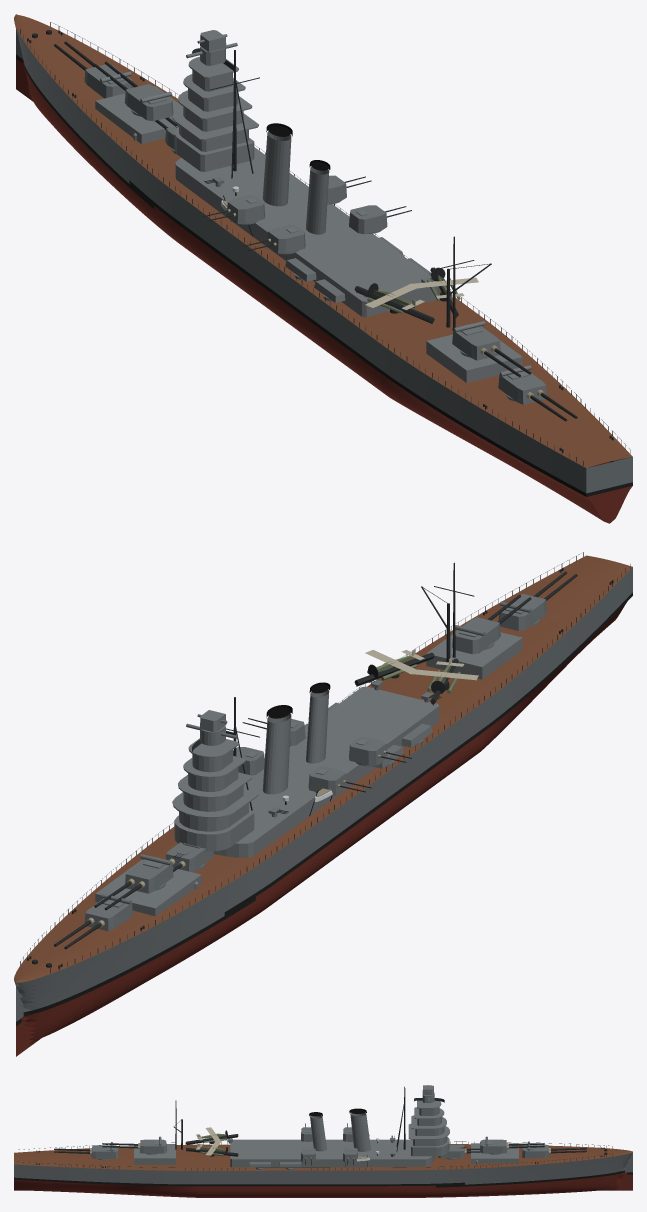
File: takao.glb
3 renders of one model, top to bottom at view 1: azimuth 30°, elevation 25°; view 2: azimuth 150°, elevation 25°; view 3: azimuth 270°, elevation 25°, orthographic. The views are drawn at different scales.
Visible parts, largest first — view 1: Hull, Turret2, Turret4, Turret5, Turret1, Mount2, Mount4, Mount3; view 2: Hull, Turret2, Turret4, Turret5, Turret1, Mount4, Mount2, Turret3; view 3: Hull, Turret4, Turret2, Turret5, Turret1, Turret3, Mount3, Mount1.
Part boxes in pixels (left/top/right/bottom): Hull: left=14, top=14, right=632, bottom=523; Turret2: left=94, top=61, right=173, bottom=121; Turret4: left=452, top=321, right=531, bottom=377; Turret5: left=498, top=365, right=577, bottom=421; Turret1: left=54, top=41, right=132, bottom=98; Mount2: left=202, top=195, right=265, bottom=224; Mount4: left=242, top=224, right=305, bottom=254; Mount3: left=349, top=205, right=411, bottom=234; Hull: left=14, top=552, right=632, bottom=1056; Turret2: left=94, top=854, right=173, bottom=910; Turret4: left=452, top=594, right=531, bottom=654; Turret5: left=498, top=571, right=577, bottom=630; Turret1: left=54, top=893, right=133, bottom=949; Mount4: left=349, top=736, right=411, bottom=766; Mount2: left=308, top=766, right=371, bottom=795; Turret3: left=165, top=842, right=213, bottom=872; Hull: left=14, top=1086, right=632, bottom=1197; Turret4: left=102, top=1136, right=166, bottom=1154; Turret2: left=480, top=1136, right=544, bottom=1154; Turret5: left=54, top=1142, right=118, bottom=1160; Turret1: left=522, top=1141, right=586, bottom=1158; Turret3: left=438, top=1144, right=479, bottom=1159; Mount3: left=301, top=1148, right=315, bottom=1165; Mount1: left=343, top=1148, right=357, bottom=1165.
Bounding box in the file's own units: 32.7 × 38.1 × 206.
